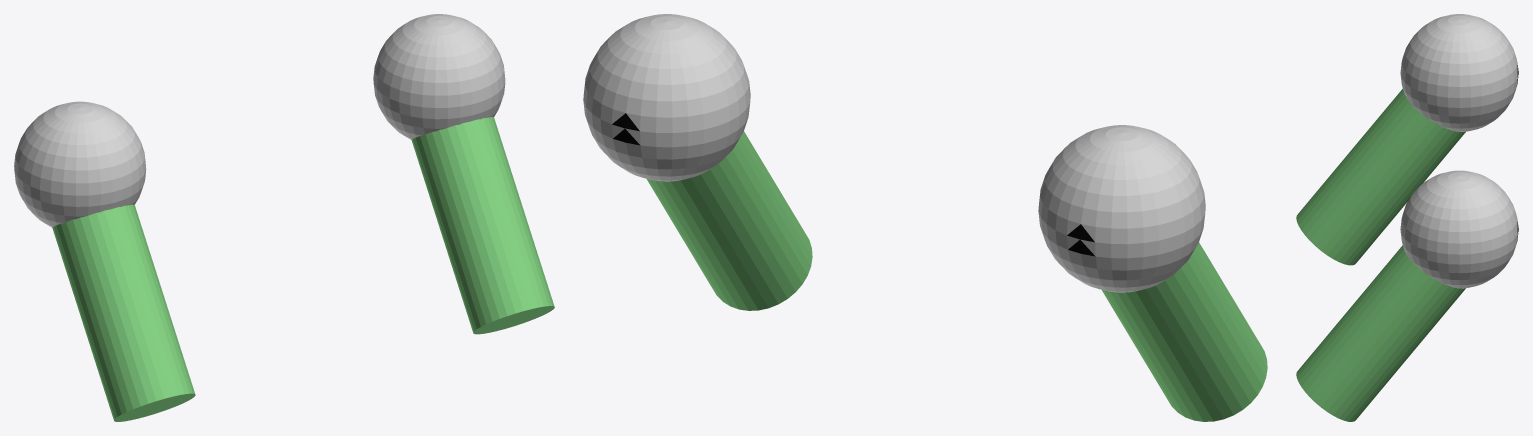
The model's file is PlaceholderModelEyes.fbx.
3 renders of one model, left to right at view 1: azimuth 30°, elevation 25°; view 2: azimuth 150°, elevation 25°; view 3: azimuth 270°, elevation 25°, orthographic. The views are drawn at different scales.
Parts seen in each view (by area): view 1: Cylinder.001; view 2: Cylinder.001; view 3: Cylinder.001.
Boxes of the visible parts, x1,y1,x2,y2 form: Cylinder.001: (14,14,554,421); Cylinder.001: (583,14,1267,421); Cylinder.001: (1296,14,1518,421).
Size of the model in its own units: 49.58 by 26.91 by 22.57.
